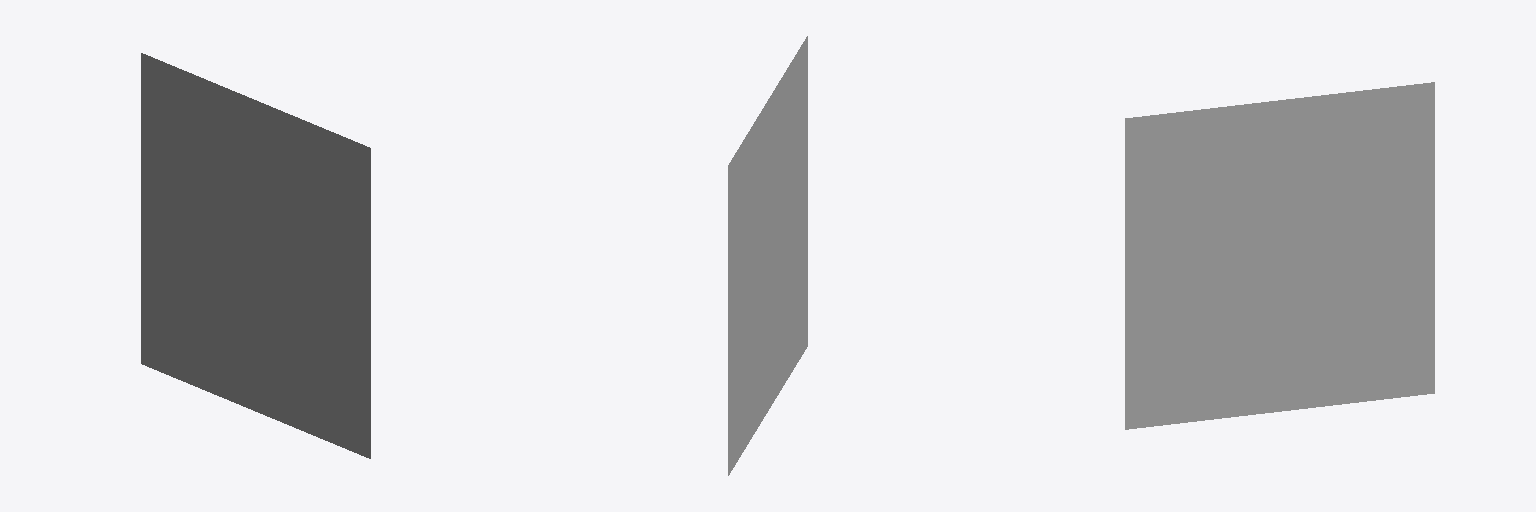
File: pauli.obj
3 views of the same model, side by side, from view 1: azimuth 30°, elevation 25°; view 2: azimuth 150°, elevation 25°; view 3: azimuth 270°, elevation 25° (orthographic).
Size of the model in its own units: 27.93 by 111 by 101.